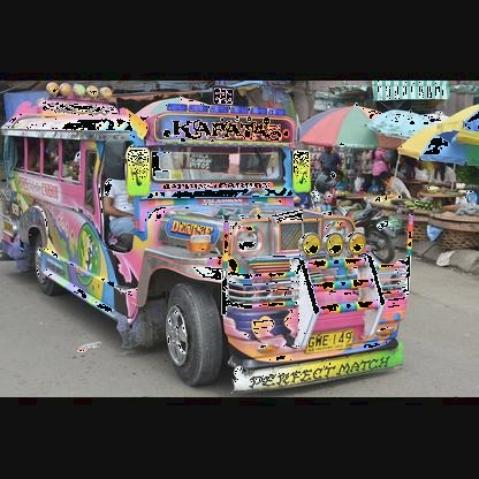jeepney: (0, 92, 410, 394)
